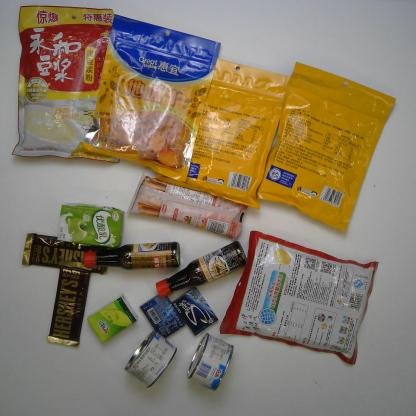Canned Food: (104, 323, 190, 393), (180, 333, 258, 402)
Chocolate: (40, 251, 96, 357), (17, 225, 117, 283)
Dessert: (116, 160, 255, 244)
Dried Fruit: (256, 53, 402, 236), (81, 7, 230, 186), (148, 46, 293, 216)
Gum: (166, 284, 224, 339), (132, 287, 187, 345)
Instant Drink: (216, 215, 398, 379), (10, 0, 122, 172)
Milk: (51, 192, 131, 253)
Seasoner: (146, 229, 250, 303), (73, 230, 183, 270)
Tissue: (84, 290, 150, 350)
